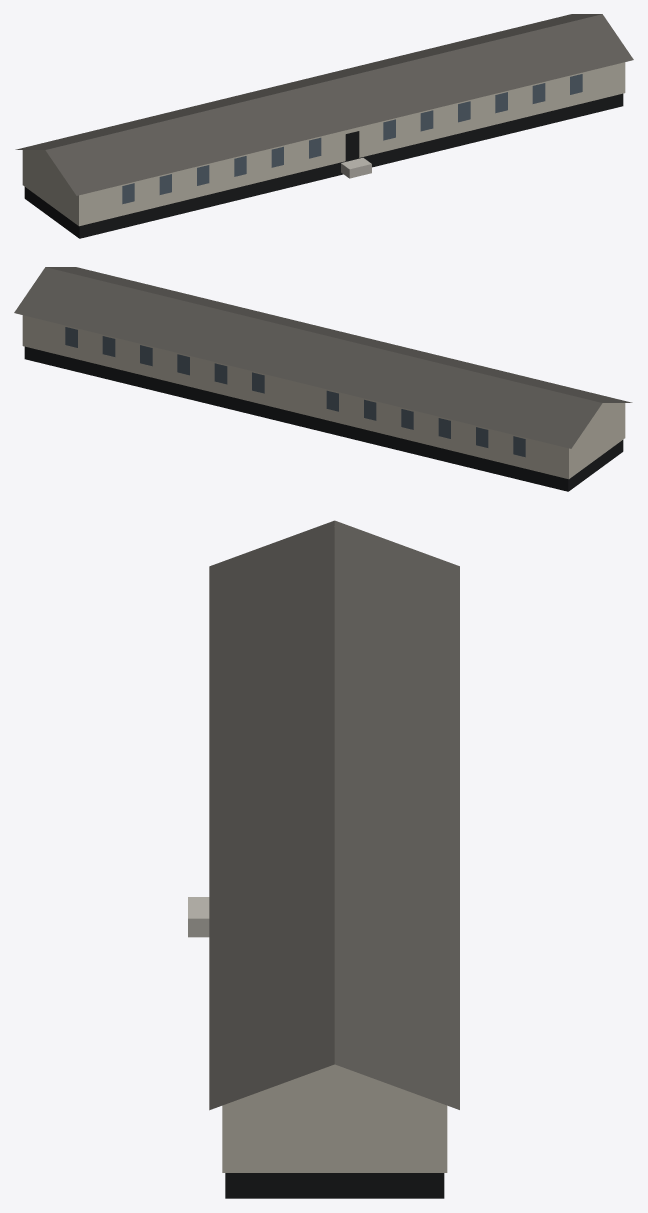
The model's file is lru-temporary-1961-4.glb.
The picture shows the model from 3 angles, top to bottom: view 1: azimuth 30°, elevation 25°; view 2: azimuth 150°, elevation 25°; view 3: azimuth 270°, elevation 25°; orthographic projection. The views are drawn at different scales.
Parts seen in each view (by area): view 1: lru_temporary_1961_4; view 2: lru_temporary_1961_4; view 3: lru_temporary_1961_4.
Part boxes in pixels (x1,y1,x2,y2): lru_temporary_1961_4: (15, 14, 633, 238); lru_temporary_1961_4: (14, 267, 632, 491); lru_temporary_1961_4: (188, 520, 459, 1198).
Bounding box in the file's own units: 44.81 × 5.41 × 9.48.
